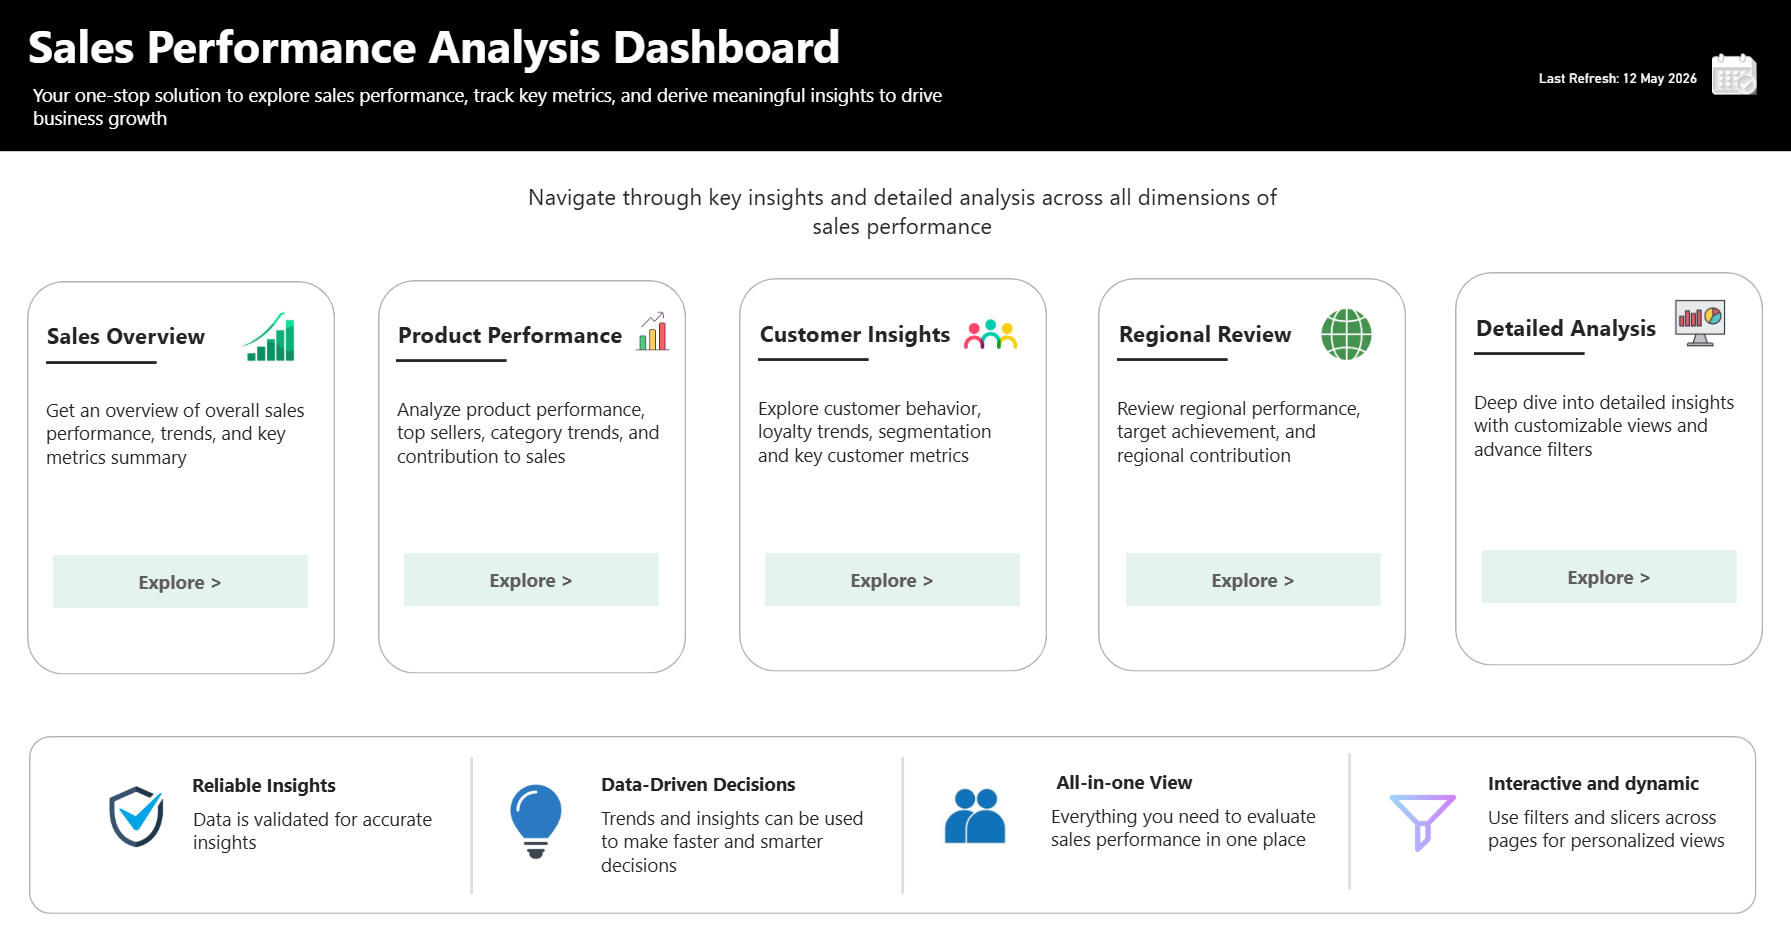

What the dashboard file says about the page in this screenshot:
{"tool":"powerbi","page":{"name":"Home Page","canvas":[1280,720],"ordinal":0},"visuals":[{"type":"textbox","box":[0,0,1280.3,107.6],"z":0},{"type":"textbox","box":[18.3,53.8,666.4,51.4],"z":1000},{"type":"textbox","box":[358.9,124.2,570.5,55.8],"z":2000},{"type":"shape","box":[19.1,200.5,220.1,281.3],"z":3000},{"type":"textbox","box":[28.9,223.8,182.2,42.8],"z":4000},{"type":"textbox","box":[27.7,278.8,201.8,88],"z":5000},{"type":"actionButton","box":[37.7,396.2,182.2,37.9],"z":6000},{"type":"shape","box":[32.5,248.2,79.5,20.8],"z":7000},{"type":"image","box":[157.3,205.4,66,66],"z":8000},{"type":"shape","box":[269.8,199.8,220.1,281.3],"z":9000},{"type":"textbox","box":[279.5,223,182.2,42.8],"z":10000},{"type":"textbox","box":[278.3,278,201.8,88],"z":11000},{"type":"actionButton","box":[288.3,395,182.2,37.9],"z":12000},{"type":"shape","box":[283.2,247.5,79.5,20.8],"z":13000},{"type":"shape","box":[528,198.8,220.1,281.3],"z":14000},{"type":"textbox","box":[537.8,222,182.2,42.8],"z":15000},{"type":"textbox","box":[536.6,277.1,201.8,88],"z":16000},{"type":"actionButton","box":[546.4,395,182.2,37.9],"z":17000},{"type":"shape","box":[541.5,246.5,79.5,20.8],"z":18000},{"type":"shape","box":[784.3,198.8,220.1,281.3],"z":19000},{"type":"textbox","box":[794.1,222,182.2,42.8],"z":20000},{"type":"textbox","box":[792.9,277.1,201.8,88],"z":21000},{"type":"actionButton","box":[804.4,395,182.2,37.9],"z":22000},{"type":"shape","box":[797.8,246.5,79.5,20.8],"z":23000},{"type":"shape","box":[1039.4,194.4,220.1,281.3],"z":24000},{"type":"textbox","box":[1049.2,217.7,182.2,42.8],"z":25000},{"type":"textbox","box":[1047.9,272.7,201.8,88],"z":26000},{"type":"actionButton","box":[1058.7,392.5,182.2,37.9],"z":27000},{"type":"shape","box":[1052.8,242.1,79.5,20.8],"z":28000},{"type":"image","box":[442.9,158.2,46.5,154.1],"z":29000},{"type":"image","box":[680.9,200.5,62.4,80.7],"z":30000},{"type":"image","box":[927.9,212.8,70.9,52.6],"z":31000},{"type":"image","box":[1184.7,206.7,61.1,50.1],"z":32000},{"type":"image","box":[1217.9,25.7,41.6,53.8],"z":33000},{"type":"card","fields":{"Values":["Merge1.Last Refresh Date"]},"box":[1079.8,44,151.6,26.9],"z":34000},{"type":"shape","box":[20.8,525.8,1233.8,127.2],"z":35000},{"type":"shape","box":[305.7,540.5,62.4,97.8],"z":36000},{"type":"shape","box":[613.9,540.5,62.4,97.8],"z":37000},{"type":"shape","box":[933,538,62.4,97.8],"z":38000},{"type":"textbox","box":[132.3,546.6,182.2,42.8],"z":39000},{"type":"textbox","box":[132.8,571.1,201.8,88],"z":40000},{"type":"textbox","box":[424.1,545.4,182.2,42.8],"z":41000},{"type":"textbox","box":[424.5,569.8,201.8,88],"z":42000},{"type":"textbox","box":[745.4,543.9,182.2,42.8],"z":43000},{"type":"textbox","box":[745.9,568.4,201.8,88],"z":44000},{"type":"textbox","box":[1057.7,544.9,182.2,42.8],"z":45000},{"type":"textbox","box":[1058.2,569.3,201.8,88],"z":46000},{"type":"image","box":[986.6,559.1,58.7,58.7],"z":47000},{"type":"image","box":[663.8,548.3,68.5,68.5],"z":48000},{"type":"image","box":[350.7,555.2,64.8,64.8],"z":49000},{"type":"image","box":[70.9,552.2,62.4,62.4],"z":50000}]}

Visuals, with their boxes on the page's 1280x720 design canvas (x1, y1, x2, y2). These are canvas units, not pixel positions in the 1791x928 screenshot, which may show the page scaled, cropped or inside an application window:
textbox: locate(0, 0, 1280, 108)
textbox: locate(18, 54, 685, 105)
textbox: locate(359, 124, 929, 180)
shape: locate(19, 200, 239, 482)
textbox: locate(29, 224, 211, 267)
textbox: locate(28, 279, 230, 367)
actionButton: locate(38, 396, 220, 434)
shape: locate(32, 248, 112, 269)
image: locate(157, 205, 223, 271)
shape: locate(270, 200, 490, 481)
textbox: locate(280, 223, 462, 266)
textbox: locate(278, 278, 480, 366)
actionButton: locate(288, 395, 470, 433)
shape: locate(283, 248, 363, 268)
shape: locate(528, 199, 748, 480)
textbox: locate(538, 222, 720, 265)
textbox: locate(537, 277, 738, 365)
actionButton: locate(546, 395, 729, 433)
shape: locate(542, 246, 621, 267)
shape: locate(784, 199, 1004, 480)
textbox: locate(794, 222, 976, 265)
textbox: locate(793, 277, 995, 365)
actionButton: locate(804, 395, 987, 433)
shape: locate(798, 246, 877, 267)
shape: locate(1039, 194, 1260, 476)
textbox: locate(1049, 218, 1231, 260)
textbox: locate(1048, 273, 1250, 361)
actionButton: locate(1059, 392, 1241, 430)
shape: locate(1053, 242, 1132, 263)
image: locate(443, 158, 489, 312)
image: locate(681, 200, 743, 281)
image: locate(928, 213, 999, 265)
image: locate(1185, 207, 1246, 257)
image: locate(1218, 26, 1260, 80)
card - Merge1.Last Refresh Date: locate(1080, 44, 1231, 71)
shape: locate(21, 526, 1255, 653)
shape: locate(306, 540, 368, 638)
shape: locate(614, 540, 676, 638)
shape: locate(933, 538, 995, 636)
textbox: locate(132, 547, 314, 589)
textbox: locate(133, 571, 335, 659)
textbox: locate(424, 545, 606, 588)
textbox: locate(424, 570, 626, 658)
textbox: locate(745, 544, 928, 587)
textbox: locate(746, 568, 948, 656)
textbox: locate(1058, 545, 1240, 588)
textbox: locate(1058, 569, 1260, 657)
image: locate(987, 559, 1045, 618)
image: locate(664, 548, 732, 617)
image: locate(351, 555, 416, 620)
image: locate(71, 552, 133, 615)
